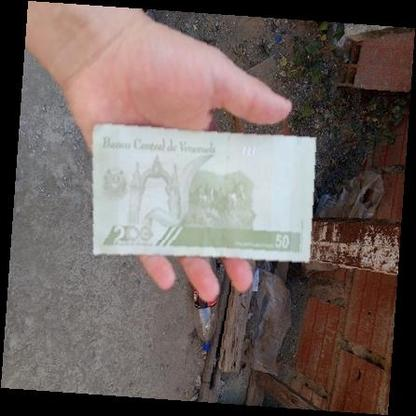fifty-back-vef: (92, 124, 315, 262)
